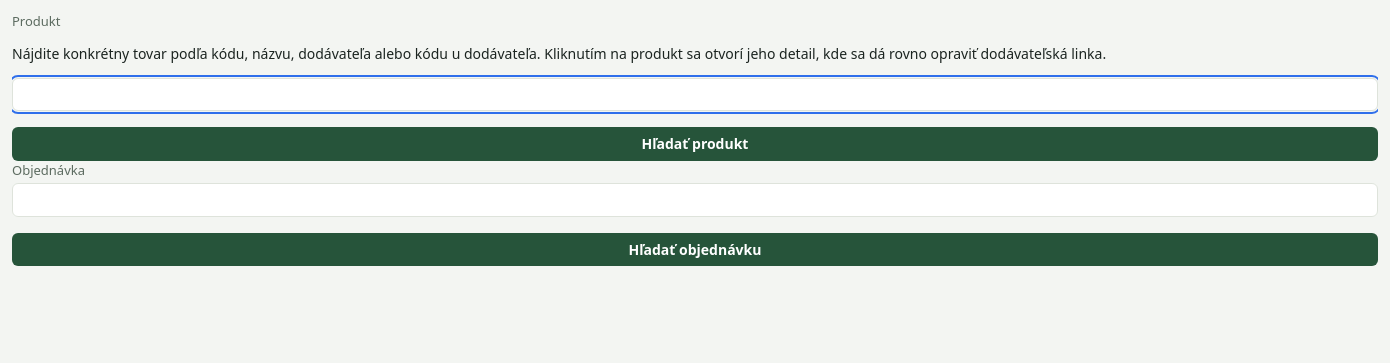
Test: prázdny výsledok produktu zobrazí informačnú vetu namiesto tabuľky
Type "nieco-co-nikde-nie-je" into the search field labelled "Produkt".
click(695, 95); type("nieco-co-nikde-nie-je")  # box [12,78,1378,111]
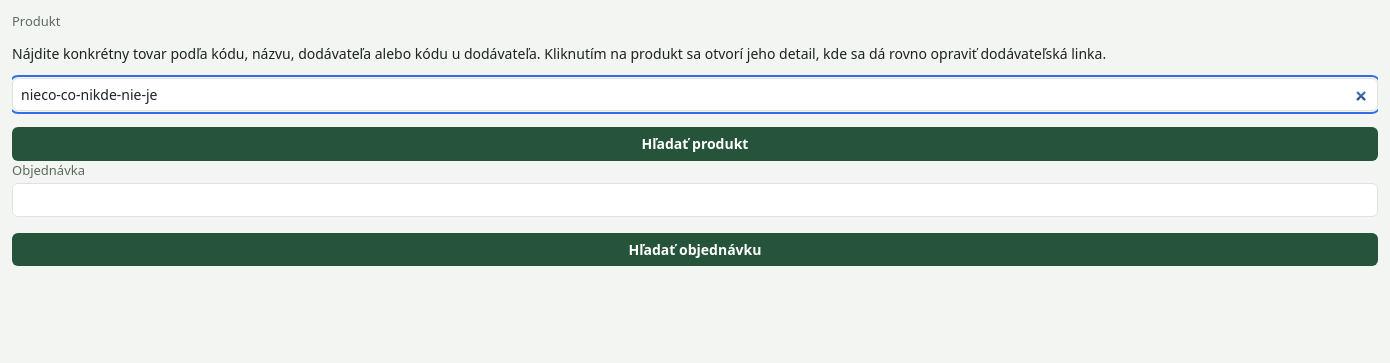
Click the button "Hľadať produkt".
click(695, 144)  # box [12,127,1378,161]
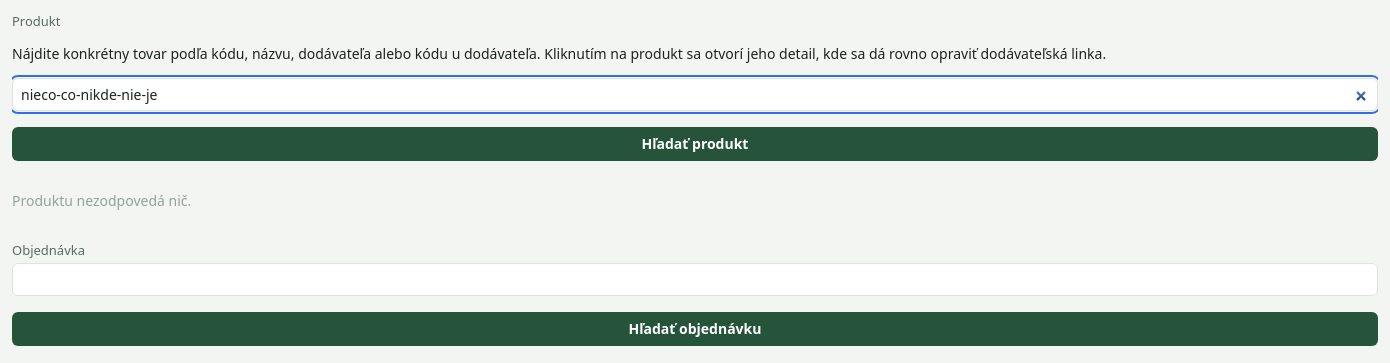
Check: the text "Produktu nezodpovedá nič." is shown, box [12,191,191,210]
